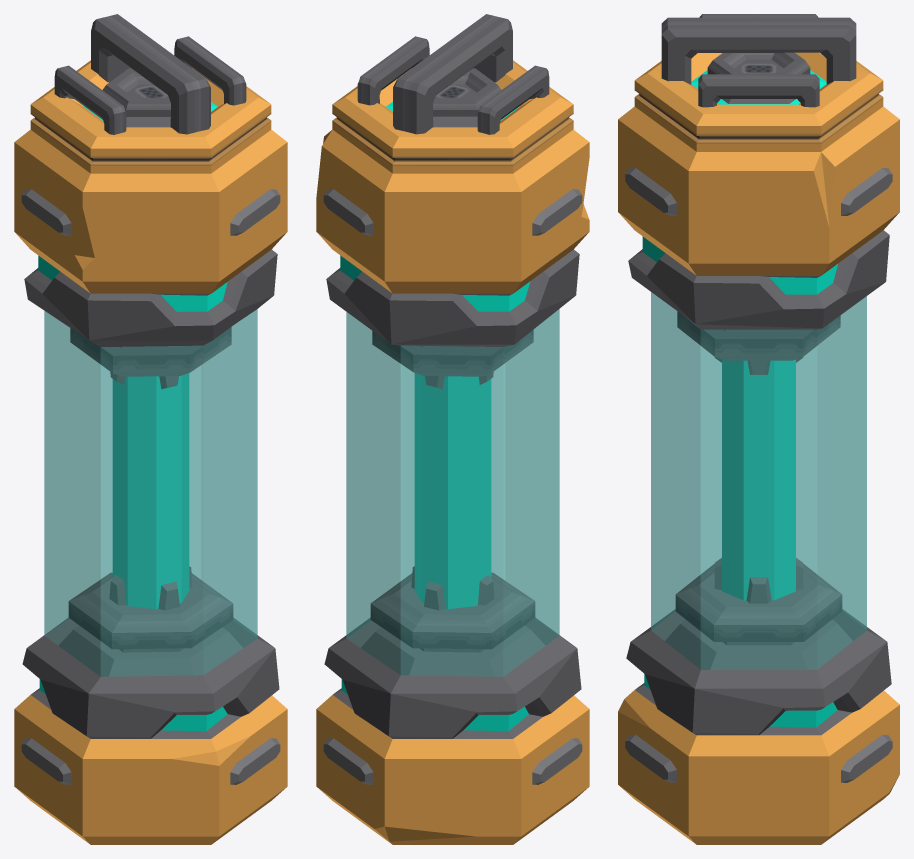
Rendered from SM_Prop_Power_Terminal_03_PowerCell_01.fbx.
3 renders of one model, left to right at view 1: azimuth 30°, elevation 25°; view 2: azimuth 150°, elevation 25°; view 3: azimuth 270°, elevation 25°, orthographic. The views are drawn at different scales.
Parts seen in each view (by area): view 1: SM_Prop_Power_Terminal_03_PowerCell_01; view 2: SM_Prop_Power_Terminal_03_PowerCell_01; view 3: SM_Prop_Power_Terminal_03_PowerCell_01.
Part boxes in pixels (box(x1,y1,x2,y2)): SM_Prop_Power_Terminal_03_PowerCell_01: box(14, 14, 287, 844); SM_Prop_Power_Terminal_03_PowerCell_01: box(316, 14, 589, 844); SM_Prop_Power_Terminal_03_PowerCell_01: box(618, 14, 899, 844).
Bounding box in the file's own units: 104 × 355 × 117.
